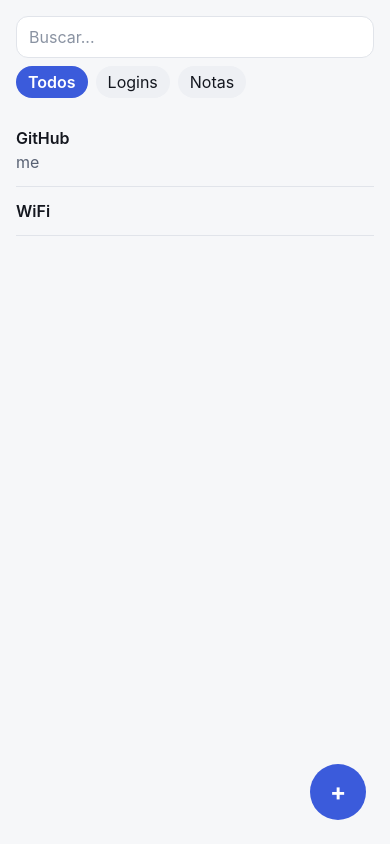
VaultList › searches by query
This screenshot has width=390, height=844.
Type "wifi" into the field with placeholder "Buscar..." at (195, 37), box 16,16 -> 374,58
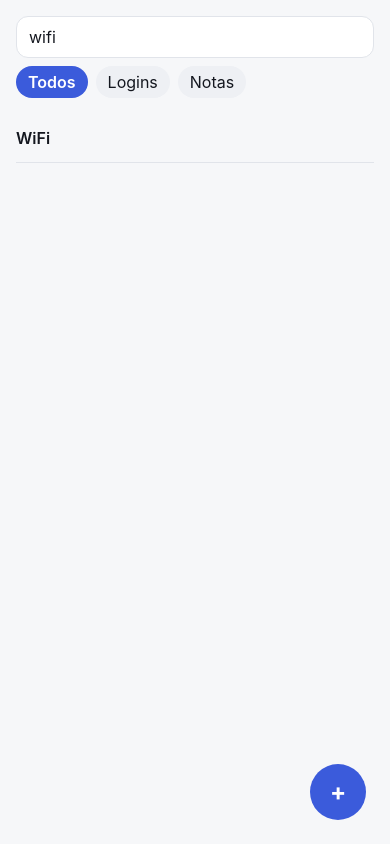
Now the text "GitHub" is gone
